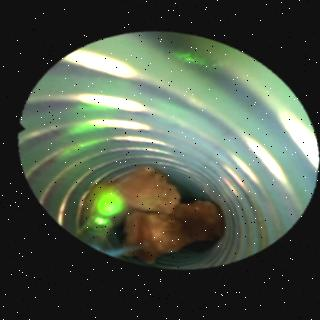laser: (88, 190, 118, 215), (90, 218, 103, 227)
stone: (118, 167, 217, 265)
